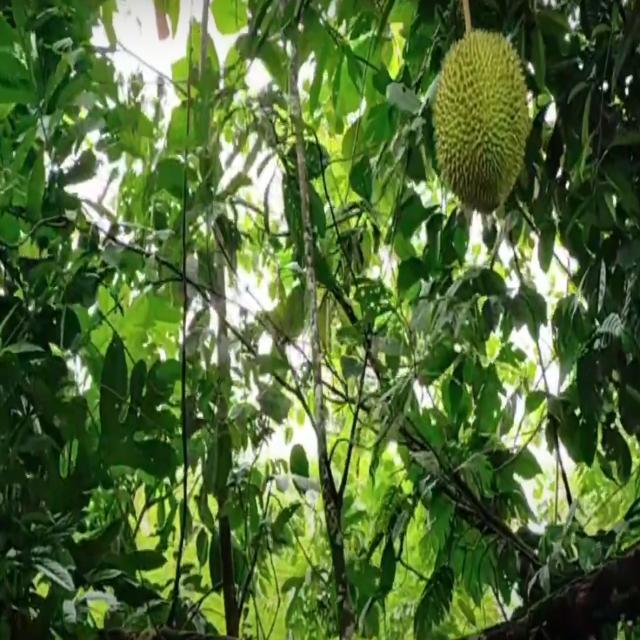immature: (435, 27, 535, 219)
